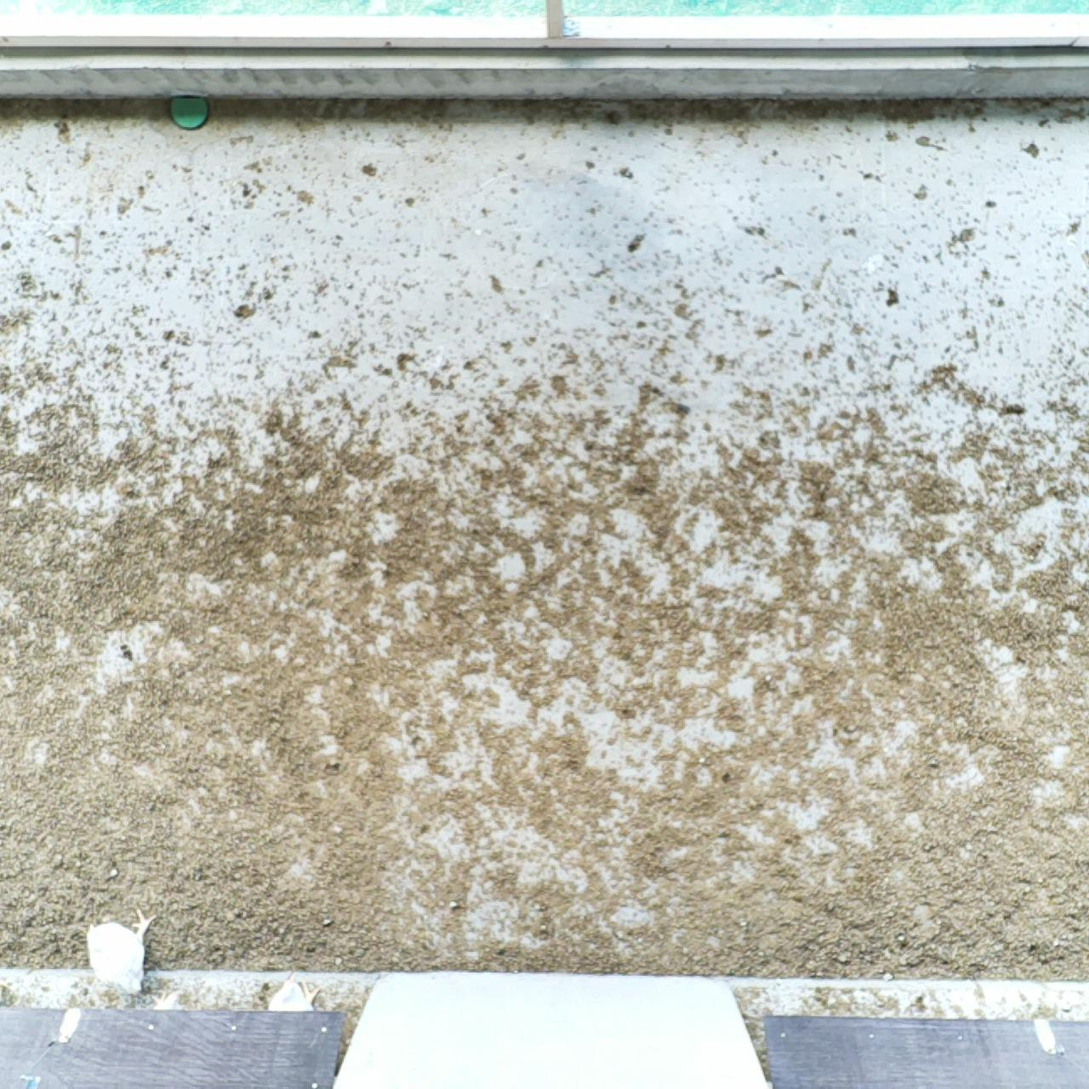chicken: (86, 904, 152, 995)
